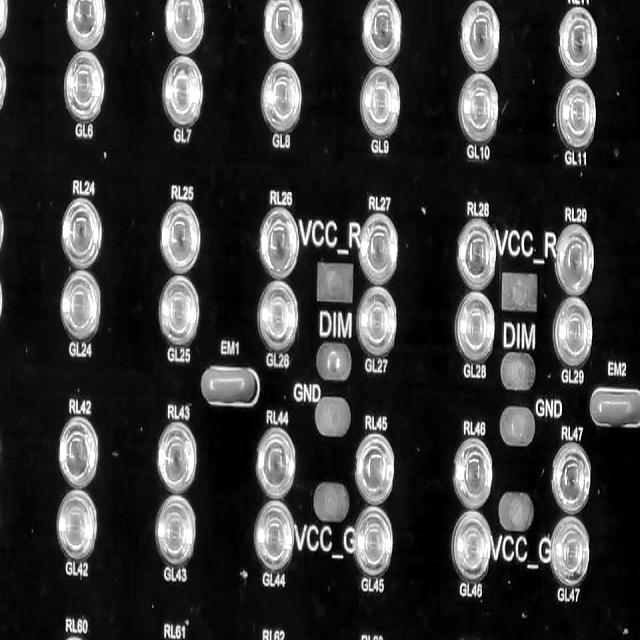EMC filter: (200, 365, 258, 404), (590, 387, 640, 428)
led: (161, 52, 203, 130), (158, 274, 201, 350), (156, 418, 198, 495), (61, 199, 105, 272), (160, 199, 202, 275), (253, 498, 295, 574), (357, 281, 399, 357), (460, 0, 502, 76), (58, 414, 100, 489), (258, 204, 300, 279), (354, 430, 396, 505), (360, 66, 402, 140), (458, 71, 500, 145), (255, 427, 296, 502), (558, 5, 599, 80), (456, 219, 497, 292), (357, 212, 399, 283), (355, 502, 394, 578), (550, 436, 590, 510), (261, 63, 303, 133), (449, 511, 492, 579), (554, 78, 597, 146), (551, 296, 594, 364), (556, 223, 596, 296), (64, 49, 105, 120), (552, 512, 591, 586), (59, 272, 102, 339), (57, 491, 98, 561), (156, 495, 197, 565), (258, 280, 299, 350), (454, 291, 496, 359), (454, 436, 493, 507), (360, 0, 403, 64), (263, 0, 304, 63), (165, 0, 206, 55), (65, 0, 107, 49)
